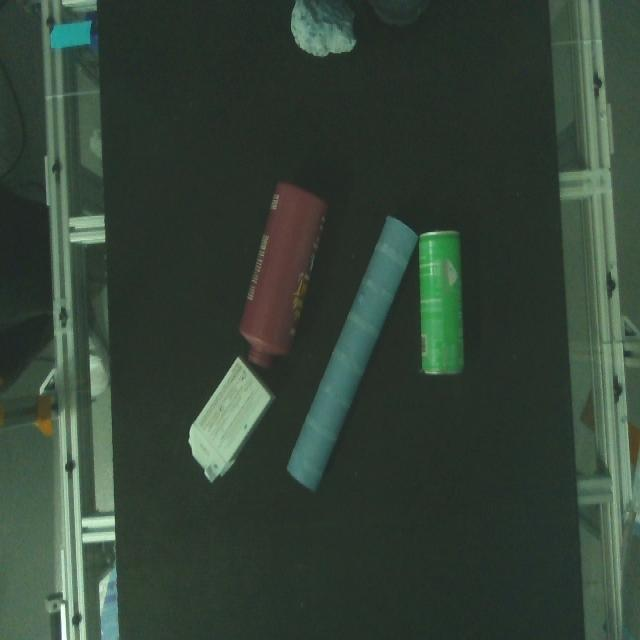non-paper: (232, 168, 337, 376), (416, 222, 471, 384), (286, 0, 359, 59), (363, 0, 434, 32)
paper: (284, 202, 422, 498), (183, 354, 275, 490)
